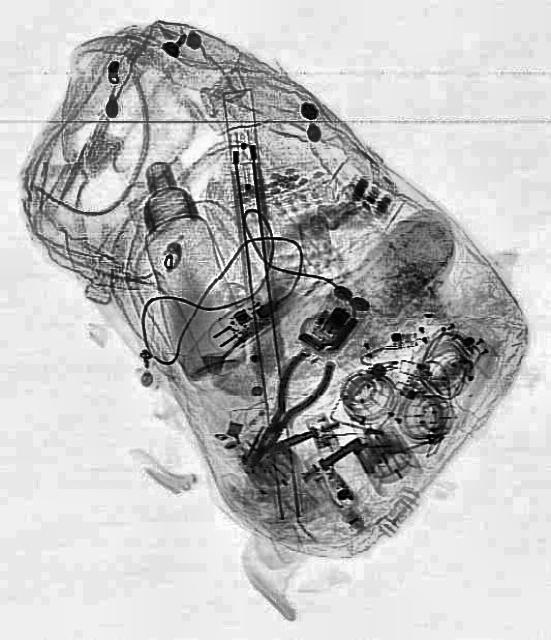Pliers: (230, 342, 338, 476)
